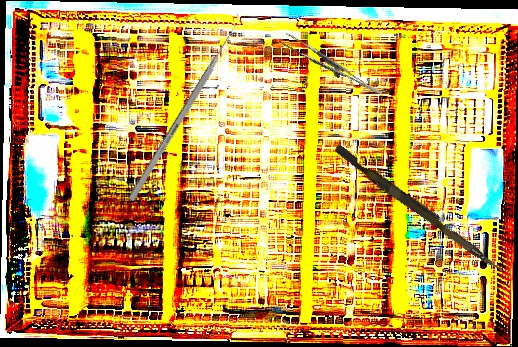Pusher: (330, 143, 509, 275), (127, 20, 242, 202)
Tissue Forceps: (279, 23, 382, 111)
